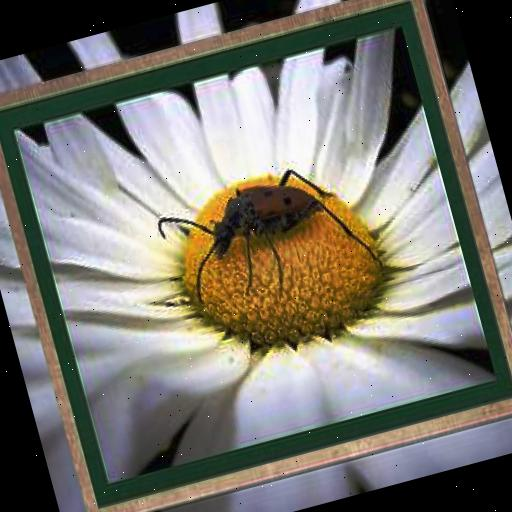daisy: (14, 26, 494, 484)
